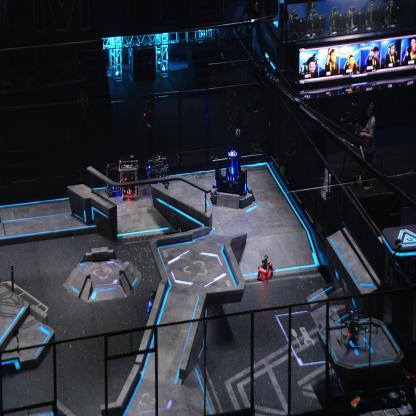car: (146, 155, 170, 190), (119, 158, 139, 200), (146, 290, 167, 319), (104, 163, 121, 197), (256, 253, 274, 283)
